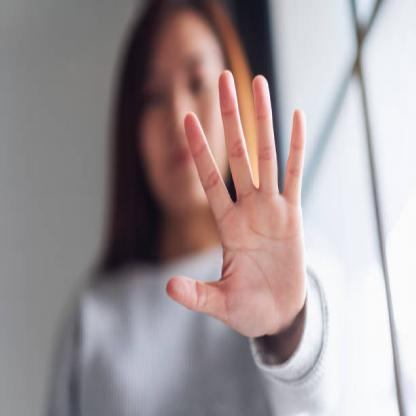stop: (162, 64, 312, 338)
